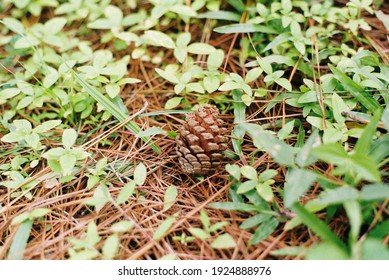Pc: (175, 106, 231, 178)
